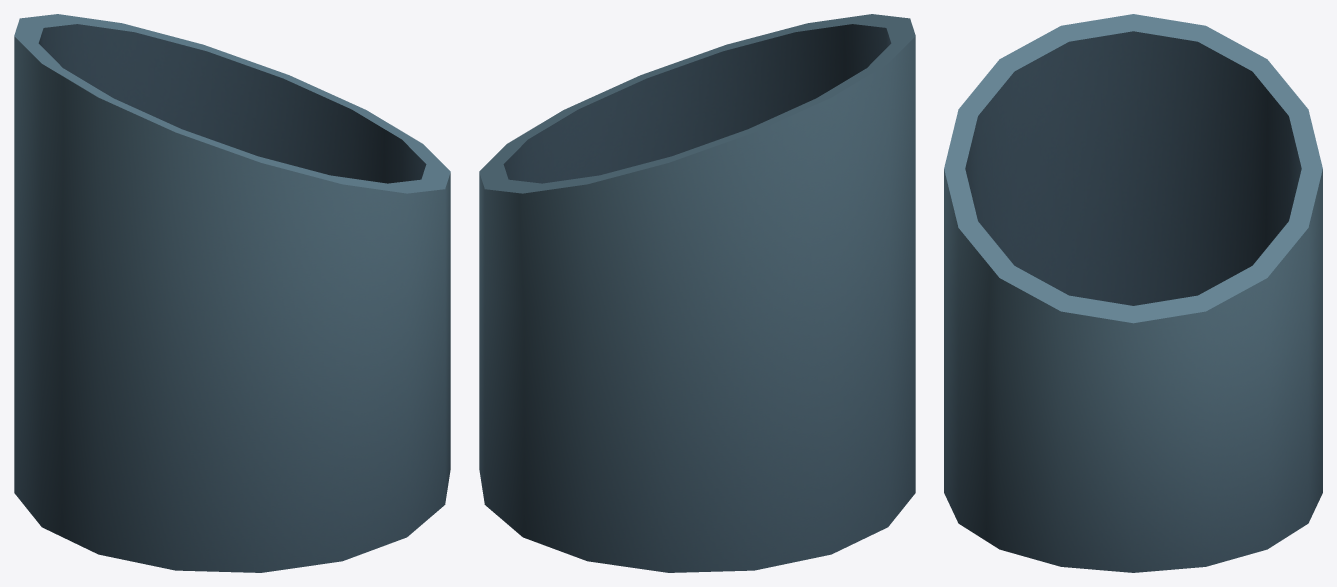
File: L2_Stationery Holder 2.fbx
The picture shows the model from 3 angles, left to right: view 1: azimuth 30°, elevation 25°; view 2: azimuth 150°, elevation 25°; view 3: azimuth 270°, elevation 25°; orthographic projection. The views are drawn at different scales.
Parts seen in each view (by area): view 1: Cylinder002; view 2: Cylinder002; view 3: Cylinder002.
Part boxes in pixels (x1,y1,x2,y2): Cylinder002: (14,14,450,572); Cylinder002: (479,14,915,572); Cylinder002: (944,14,1322,572).
Bounding box in the file's own units: 10.83 × 12.58 × 10.83.
Materials: 1 (1 with a texture image).
